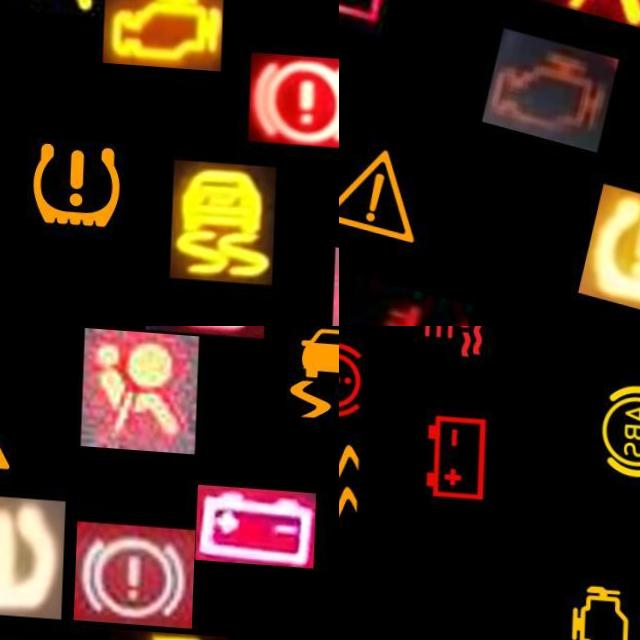Central Warning lamp: (339, 114, 450, 260), (0, 359, 26, 483)
Engine cooling system: (339, 271, 477, 326)
High Engine Coolant Temperature: (400, 326, 502, 368)
